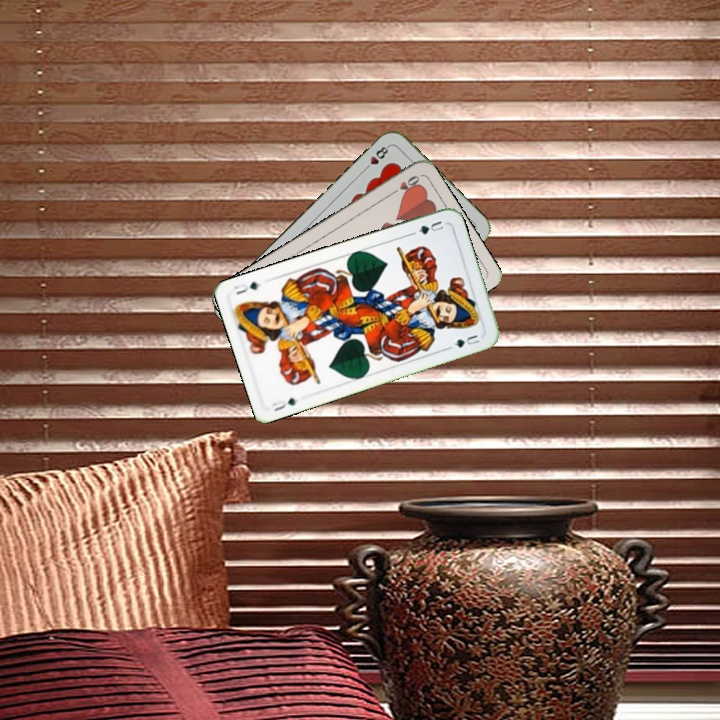GU: (414, 216, 446, 237), (268, 393, 299, 414)
H8: (360, 141, 392, 174)
HO: (386, 171, 422, 198)
